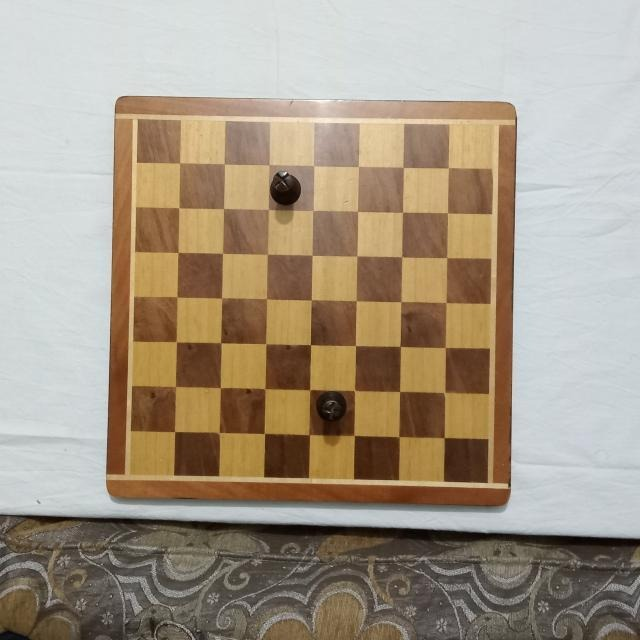black-rook: (269, 171, 301, 207), (315, 392, 349, 424)
